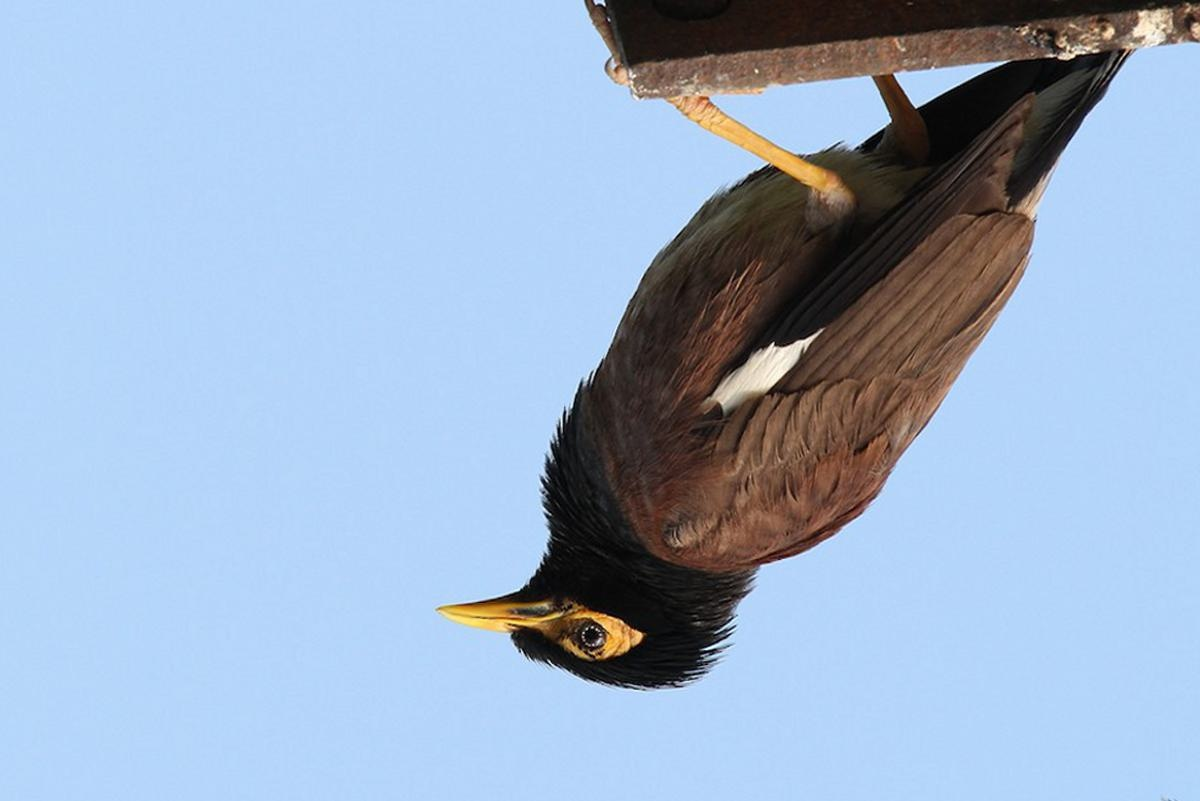myna: (431, 42, 1134, 700)
